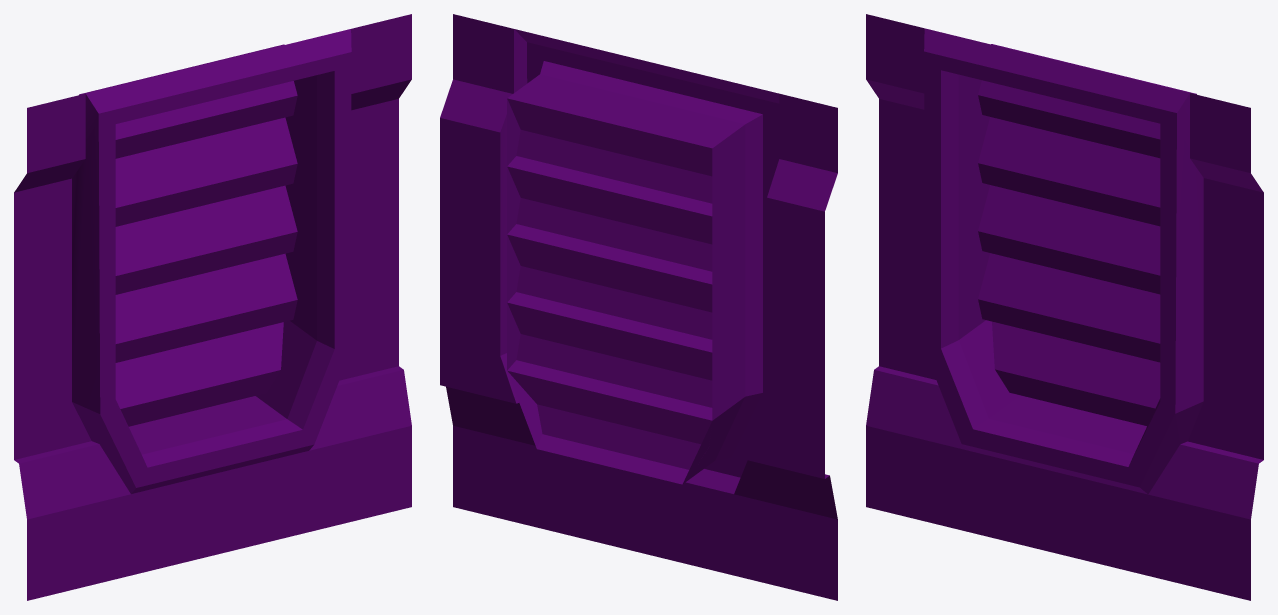
Rendered from mesh_BuildingA_Window1_v2.fbx.
The picture shows the model from 3 angles, left to right: view 1: azimuth 30°, elevation 25°; view 2: azimuth 150°, elevation 25°; view 3: azimuth 330°, elevation 25°; orthographic projection.
Visible parts, largest first — view 1: mesh_BuildingA_Window1; view 2: mesh_BuildingA_Window1; view 3: mesh_BuildingA_Window1.
Boxes of the visible parts, left/top/right/bottom form: mesh_BuildingA_Window1: left=14, top=14, right=411, bottom=600; mesh_BuildingA_Window1: left=440, top=14, right=837, bottom=600; mesh_BuildingA_Window1: left=866, top=14, right=1263, bottom=600.
Size of the model in its own units: 164 by 200 by 32.13.
